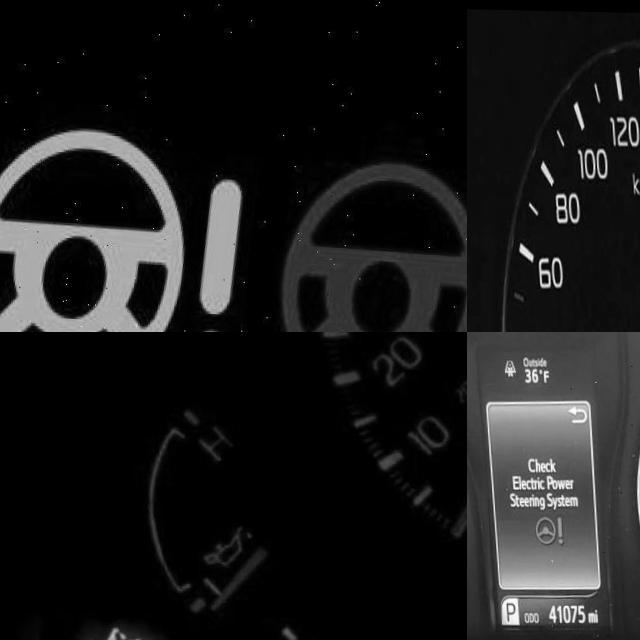Electronic Power Steering Warning: (0, 124, 249, 332), (271, 158, 467, 332), (523, 512, 562, 546)
Engine cooling system: (101, 626, 158, 640)
